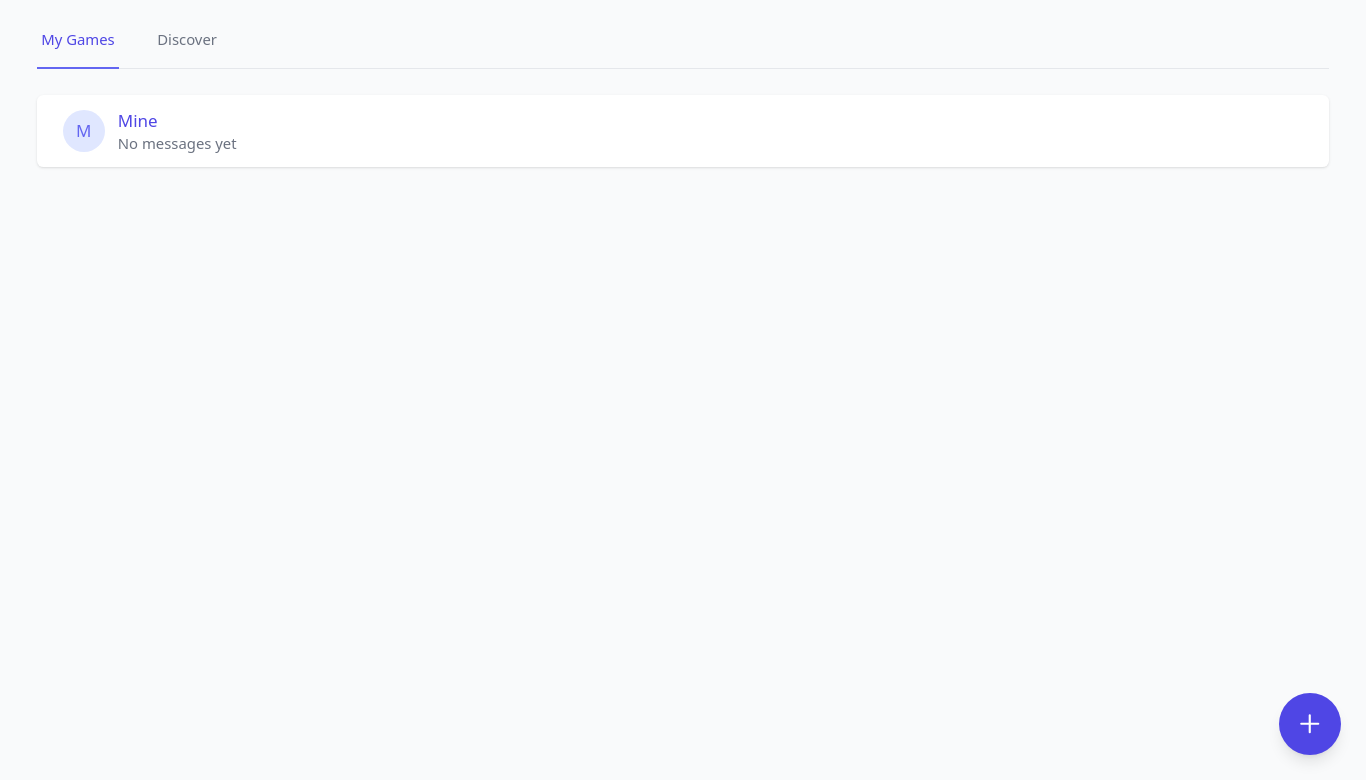
Test: Lobby › Discover tab › renders discover cards with GM, description and member count
Click the button "Discover" at (187, 41), box [153,12,221,69]
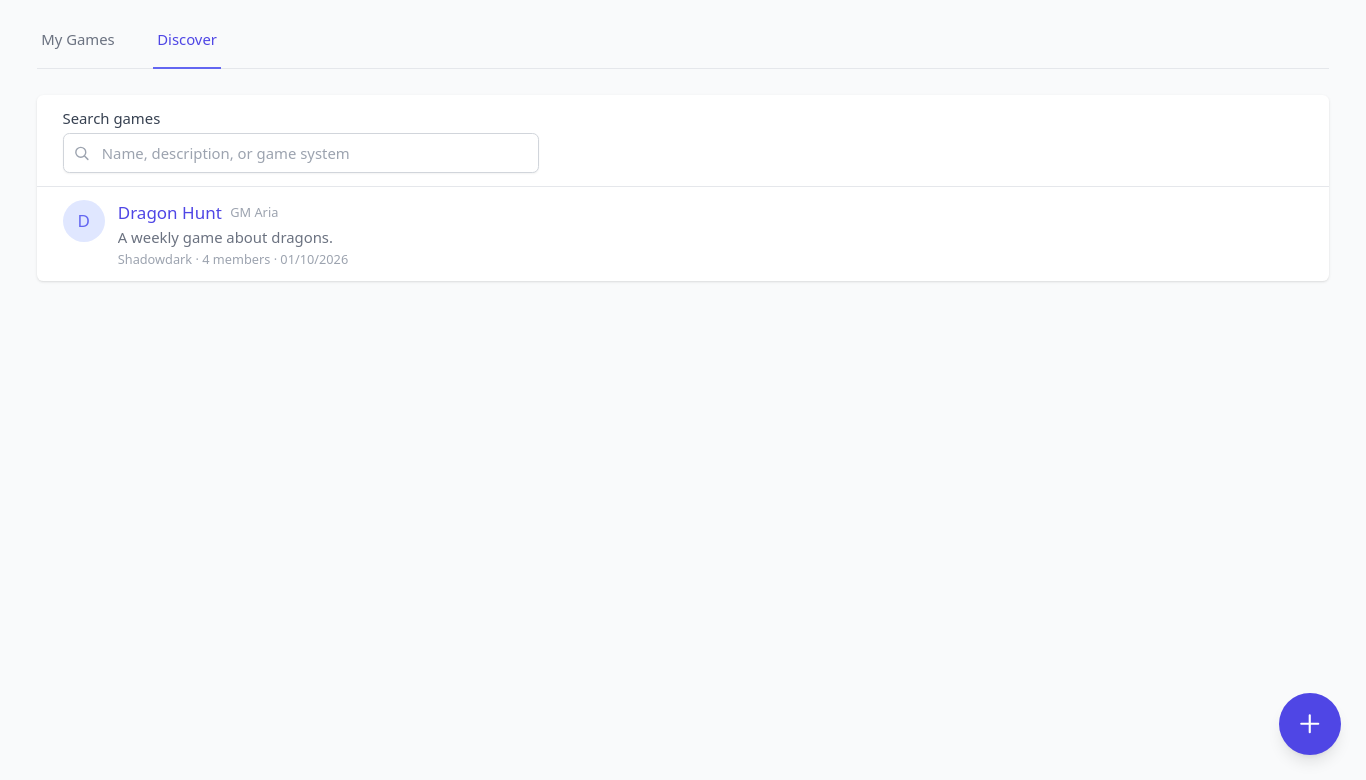
Expected: the text "Dragon Hunt" is shown, [118,200,222,225]
Expected: the text "GM Aria" is shown, [230,204,278,221]
Expected: the text "A weekly game about dragons." is shown, [118,227,333,247]
